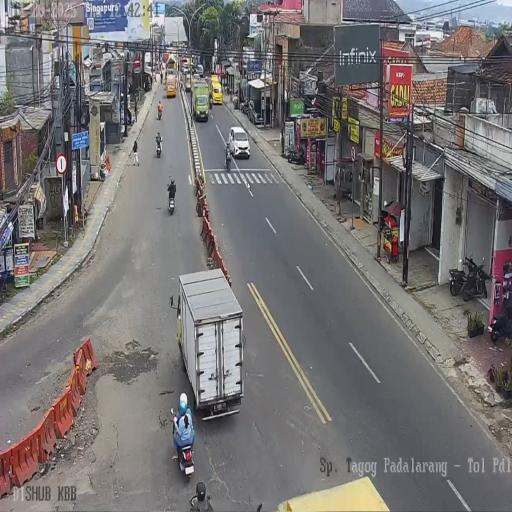3: (175, 269, 244, 418), (191, 78, 210, 122), (166, 53, 177, 76), (144, 52, 151, 72), (162, 52, 168, 62)
car: (227, 126, 250, 160), (210, 76, 224, 106), (247, 100, 263, 125), (166, 73, 176, 98), (185, 72, 192, 92), (182, 63, 189, 74), (197, 64, 203, 76)
truck: (461, 254, 490, 302), (488, 288, 512, 342), (448, 267, 466, 296), (285, 143, 304, 165), (167, 185, 176, 215), (240, 98, 250, 116), (225, 149, 232, 171), (156, 135, 162, 158), (209, 95, 213, 109), (227, 86, 232, 96), (160, 72, 163, 84)
